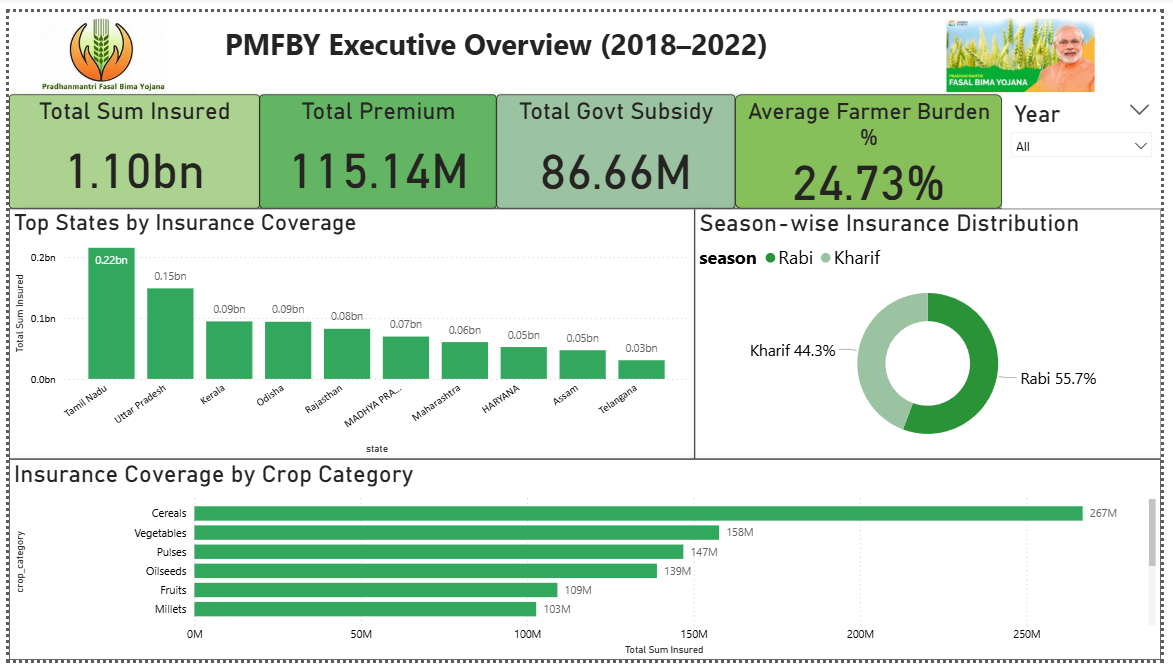

This screenshot's page, from the dashboard's own definition file:
{"tool":"powerbi","page":{"name":"Executive Overview","canvas":[1280,720],"ordinal":1},"visuals":[{"type":"card","title":"Total Sum Insured","fields":{"Values":["PMFBY_crop_insurance_analytics_dashboard.Total Sum Insured"]},"box":[0,91.7,278.3,126.7],"z":0},{"type":"card","title":"Total Premium","fields":{"Values":["PMFBY_crop_insurance_analytics_dashboard.Total Premium"]},"box":[278.3,91.7,263.3,126.7],"z":1000},{"type":"card","title":"Total Govt Subsidy","fields":{"Values":["PMFBY_crop_insurance_analytics_dashboard.Total Govt Subsidy"]},"box":[541.7,91.7,265,126.7],"z":2000},{"type":"card","title":"Average Farmer Burden %","fields":{"Values":["PMFBY_crop_insurance_analytics_dashboard.Farmer Burden %"]},"box":[806.7,91.7,296.7,126.7],"z":3000},{"type":"clusteredColumnChart","title":"Top States by Insurance Coverage","fields":{"Category":["PMFBY_crop_insurance_analytics_dashboard.state"],"Y":["PMFBY_crop_insurance_analytics_dashboard.Total Sum Insured"]},"box":[0,218.3,761.7,278.3],"z":4000},{"type":"donutChart","title":"Season-wise Insurance Distribution","fields":{"Category":["PMFBY_crop_insurance_analytics_dashboard.season"],"Y":["PMFBY_crop_insurance_analytics_dashboard.Total Sum Insured"]},"box":[761.7,218.3,518.3,278.3],"z":5000},{"type":"slicer","fields":{"Values":["PMFBY_crop_insurance_analytics_dashboard.year"]},"box":[1103.3,91.7,176.7,126.7],"z":6000},{"type":"clusteredBarChart","title":"Insurance Coverage by Crop Category","fields":{"Category":["PMFBY_crop_insurance_analytics_dashboard.crop_category"],"Y":["PMFBY_crop_insurance_analytics_dashboard.Total Sum Insured"]},"box":[0,496.7,1280,223.3],"z":7000},{"type":"textbox","box":[208.9,0,866.3,89.1],"z":8000},{"type":"image","box":[0,0,208.9,92.3],"z":9000},{"type":"image","box":[968.3,1.6,310.9,92.3],"z":9001}]}

Visuals, with their boxes in screenshot pixels (x1, y1, x2, y2), scaled from the page's 1280x720 canvas onto the 1173x666 screenshot:
"Total Sum Insured" card: {"x1": 0, "y1": 85, "x2": 255, "y2": 202}
"Total Premium" card: {"x1": 255, "y1": 85, "x2": 496, "y2": 202}
"Total Govt Subsidy" card: {"x1": 496, "y1": 85, "x2": 739, "y2": 202}
"Average Farmer Burden %" card: {"x1": 739, "y1": 85, "x2": 1011, "y2": 202}
"Top States by Insurance Coverage" clusteredColumnChart: {"x1": 0, "y1": 202, "x2": 698, "y2": 459}
"Season-wise Insurance Distribution" donutChart: {"x1": 698, "y1": 202, "x2": 1172, "y2": 459}
slicer - PMFBY_crop_insurance_analytics_dashboard.year: {"x1": 1011, "y1": 85, "x2": 1172, "y2": 202}
"Insurance Coverage by Crop Category" clusteredBarChart: {"x1": 0, "y1": 459, "x2": 1172, "y2": 665}
textbox: {"x1": 191, "y1": 0, "x2": 985, "y2": 82}
image: {"x1": 0, "y1": 0, "x2": 191, "y2": 85}
image: {"x1": 887, "y1": 1, "x2": 1172, "y2": 87}
